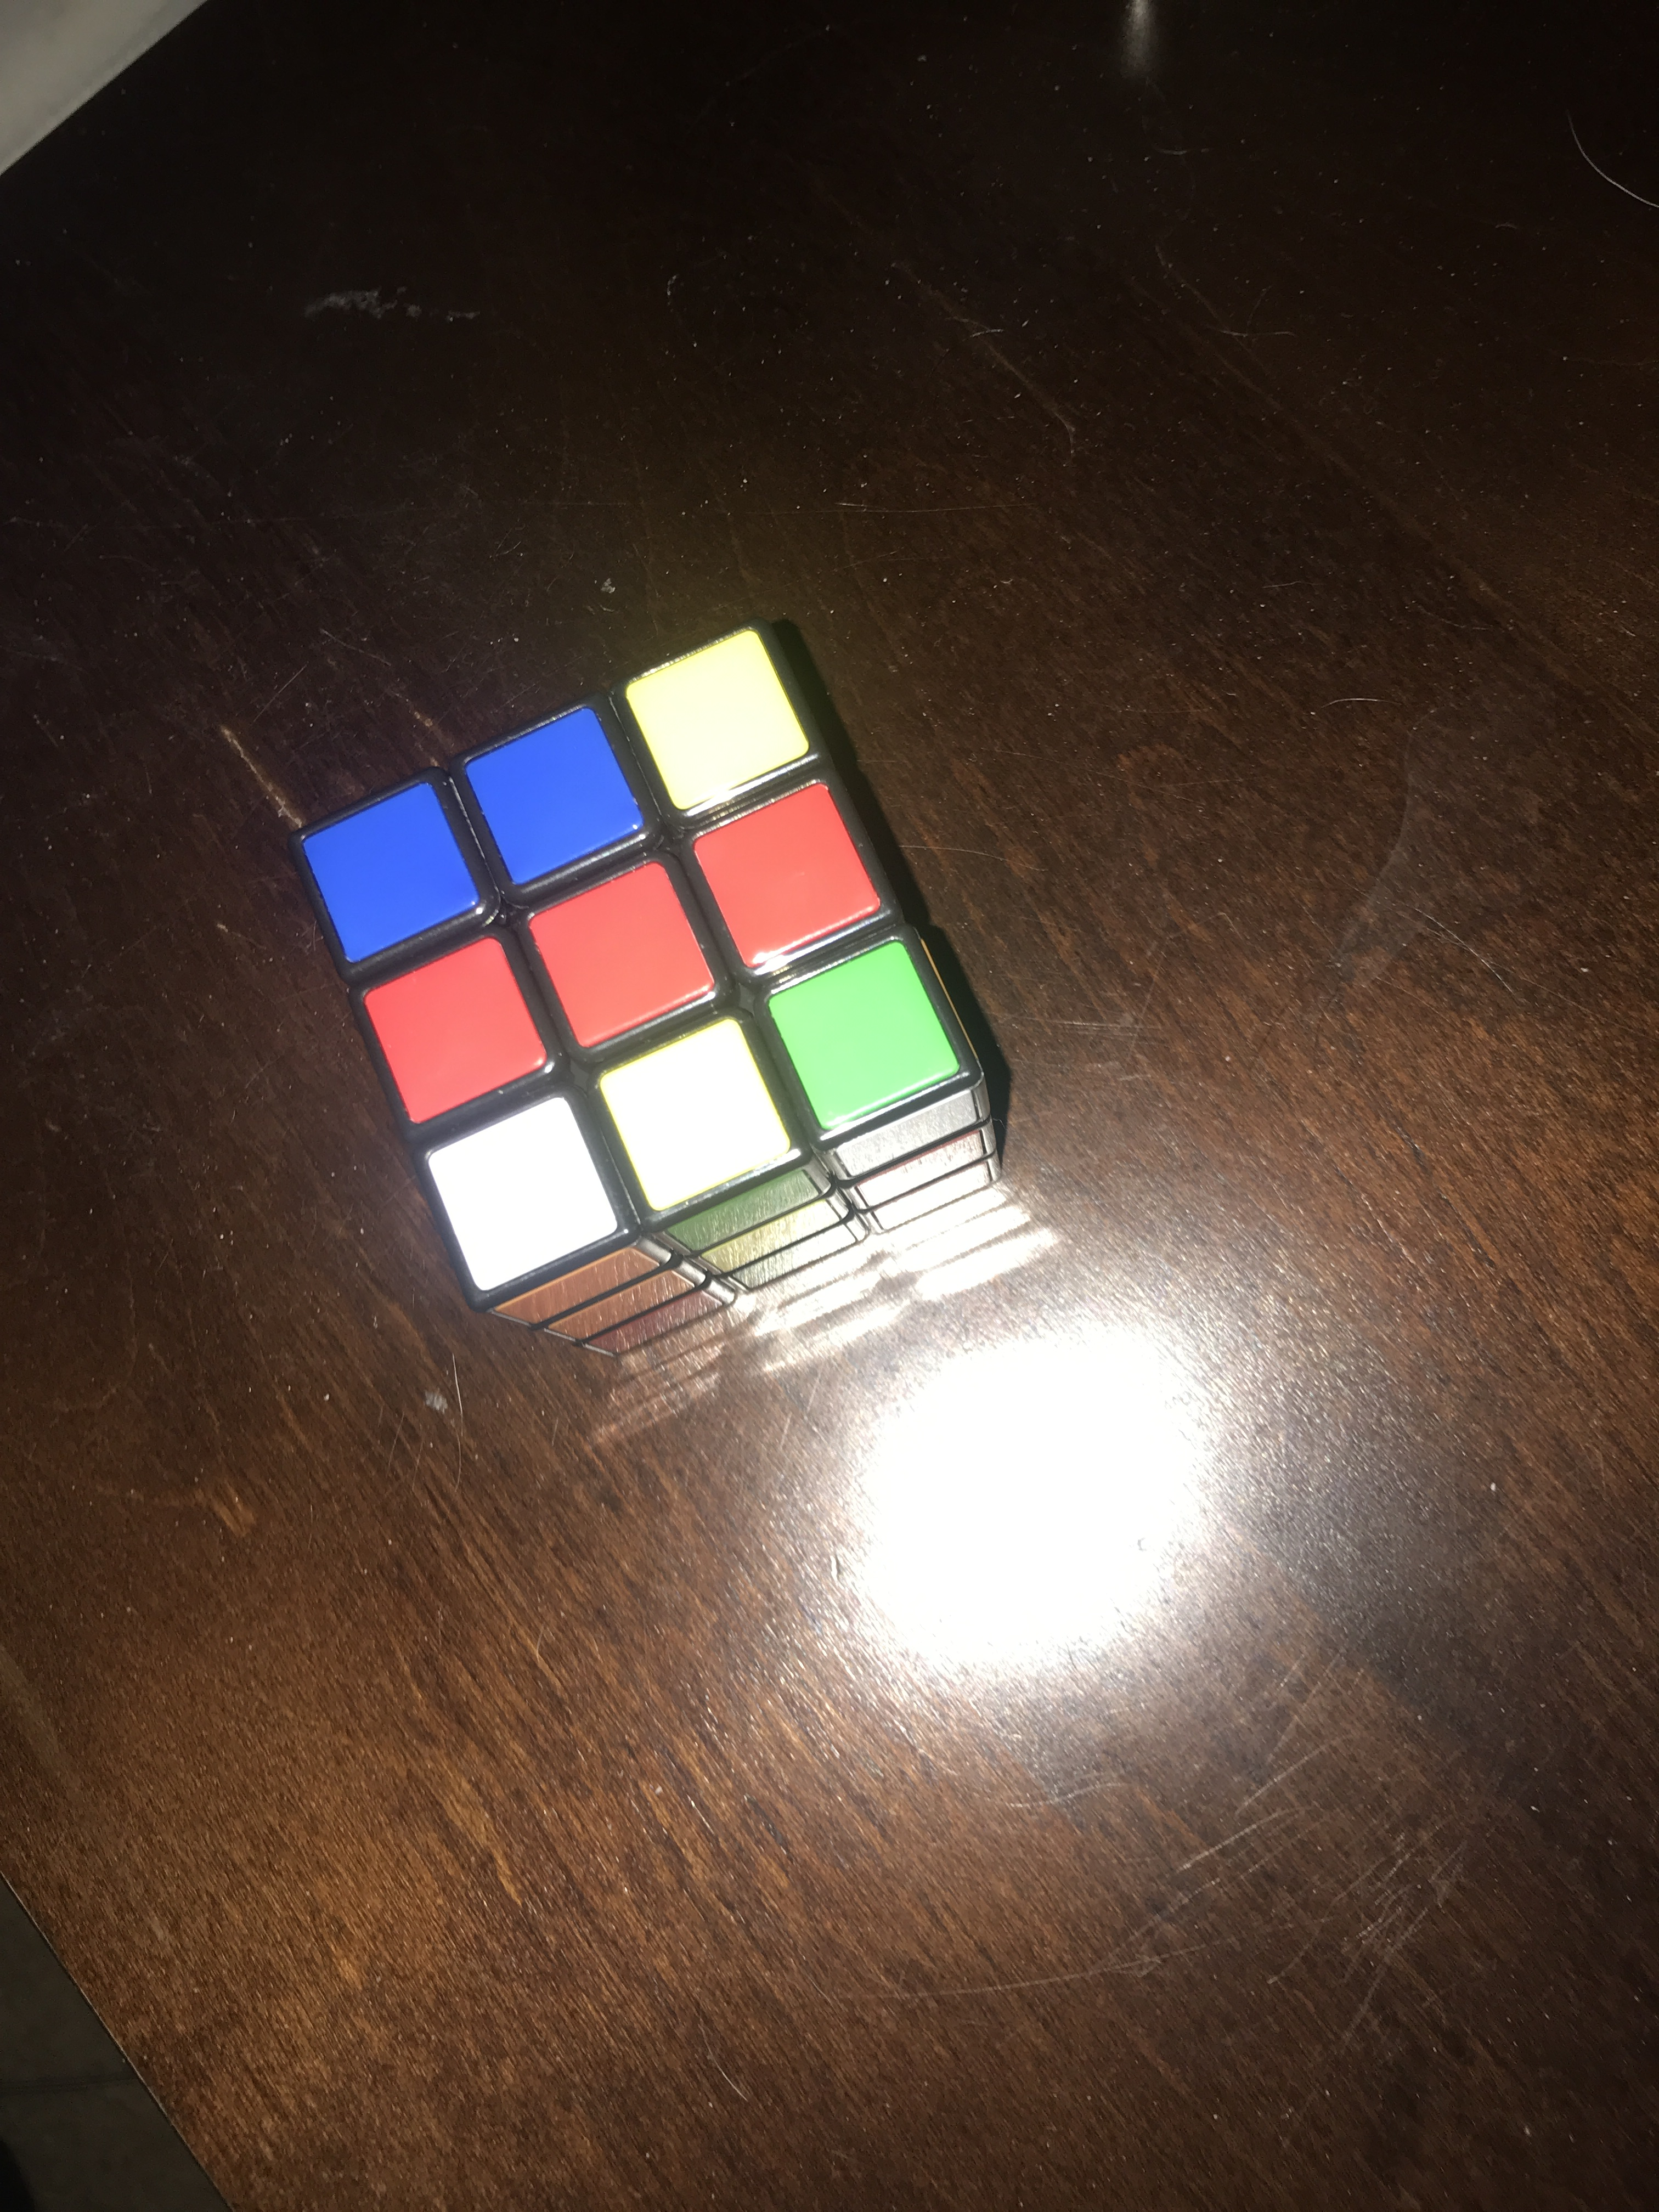rubiks: (288, 634, 1018, 1360)
